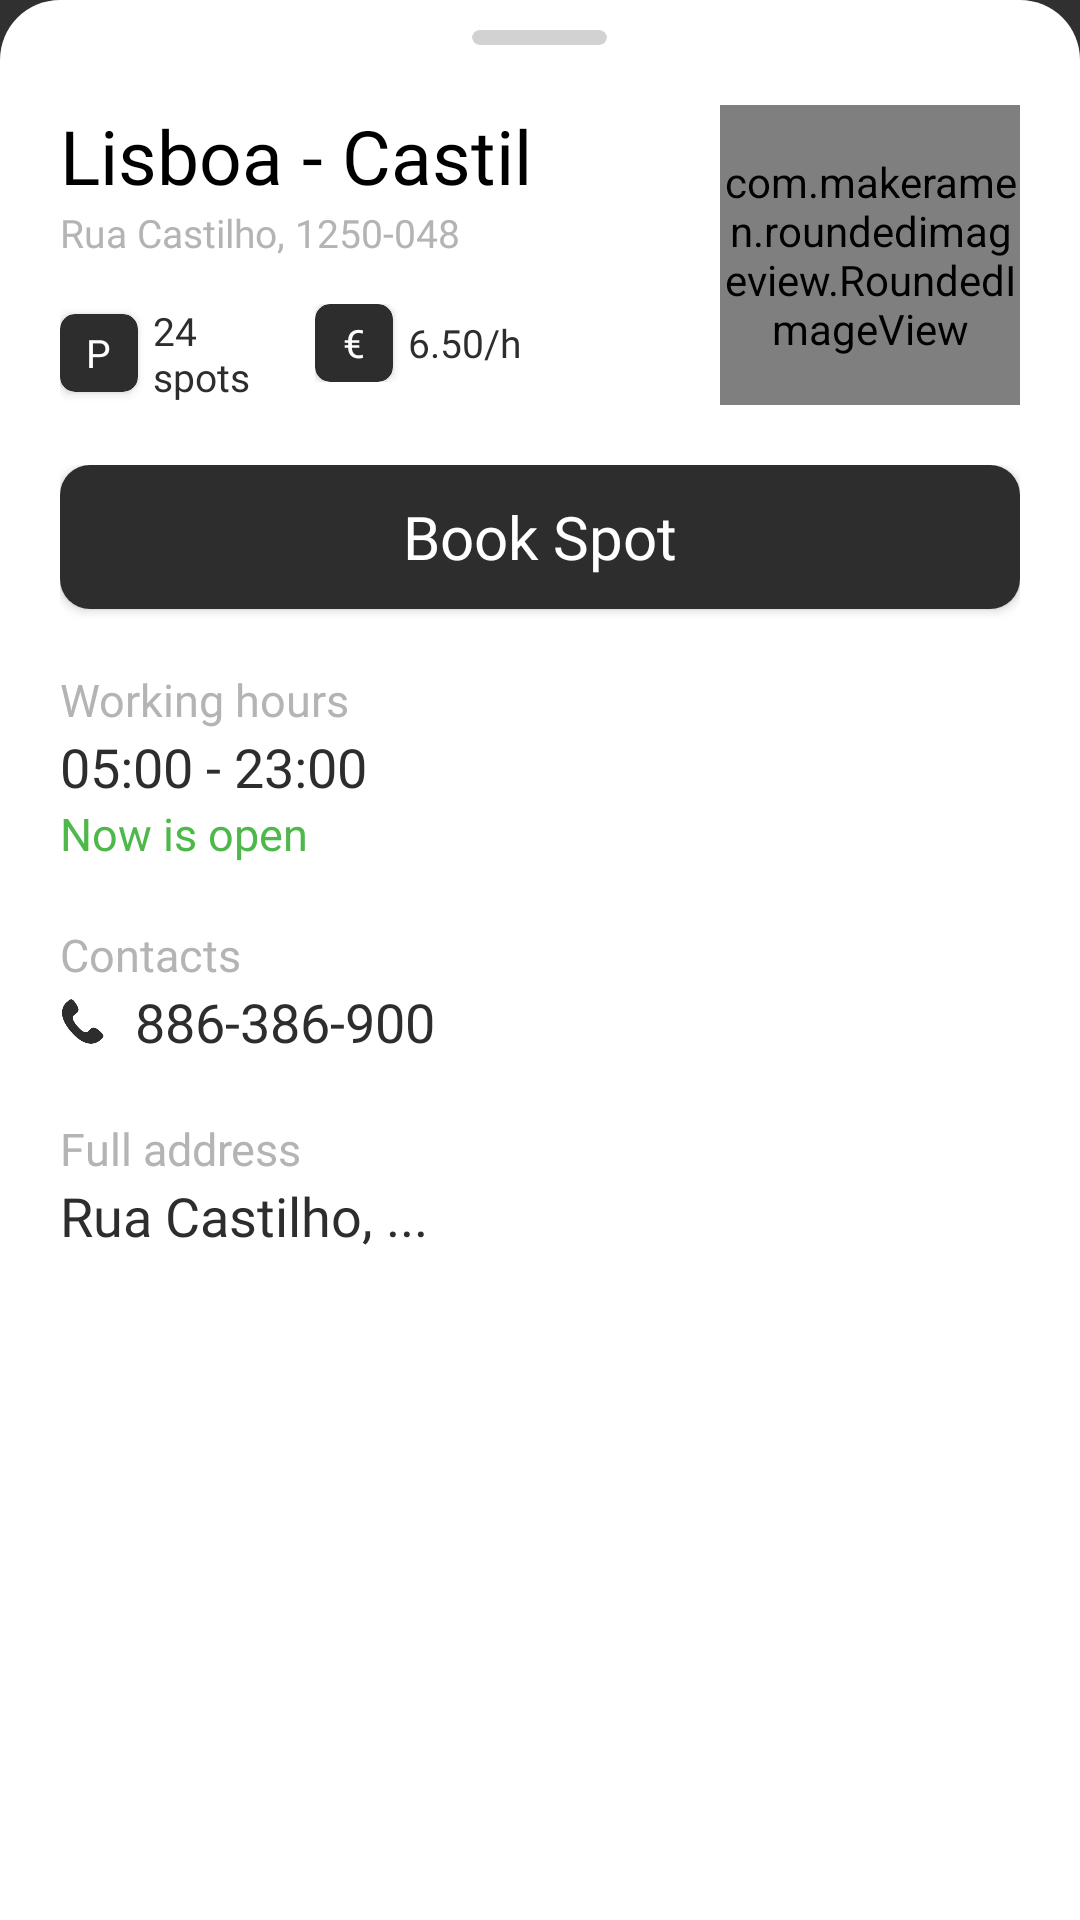

Screen size 1080 x 1920. Icon name, then its box in pixels as (left=x1, top=y1, right=x2, bottom=y2):
phone: (left=62, top=999, right=104, bottom=1044)
